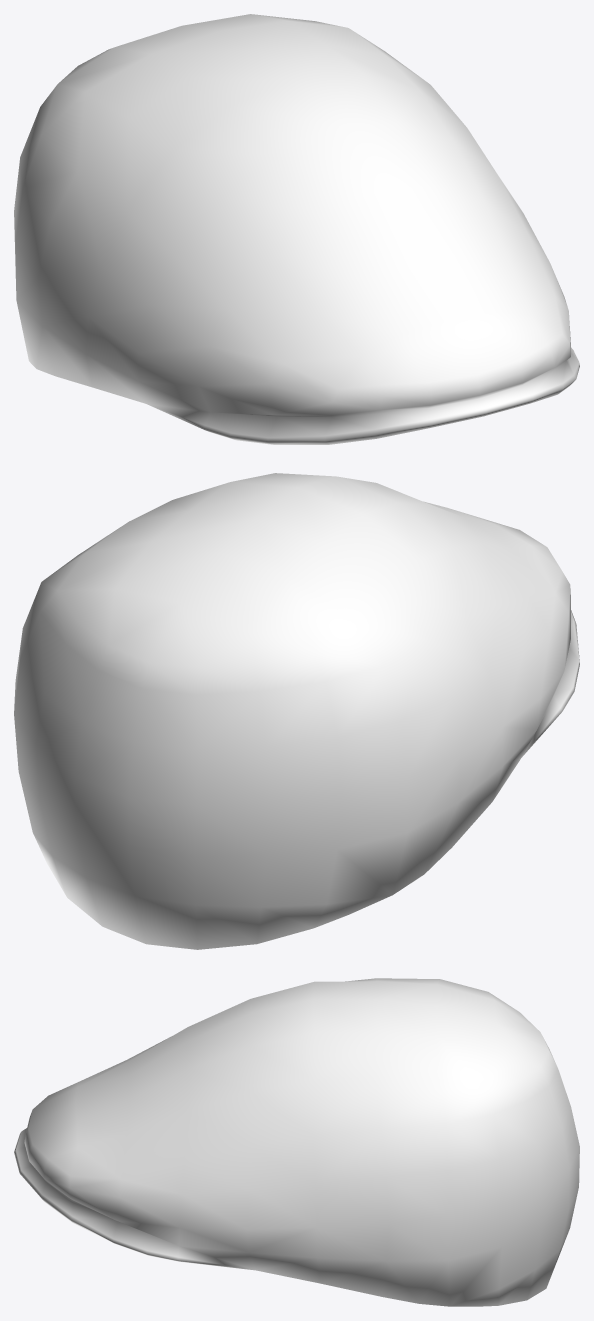
The model's file is SurvivorMale_Head_FlatCap_GQ_LOD0.glb.
The picture shows the model from 3 angles, top to bottom: view 1: azimuth 30°, elevation 25°; view 2: azimuth 150°, elevation 25°; view 3: azimuth 270°, elevation 25°; orthographic projection. The views are drawn at different scales.
Visible parts, largest first — view 1: Hoodie; view 2: Hoodie; view 3: Hoodie.
Boxes of the visible parts, x1,y1,x2,y2 form: Hoodie: (14,14,579,444); Hoodie: (14,473,579,949); Hoodie: (14,978,579,1306).
Size of the model in its own units: 0.1788 by 0.1404 by 0.2625.
Materials: 1 (1 with a texture image).
